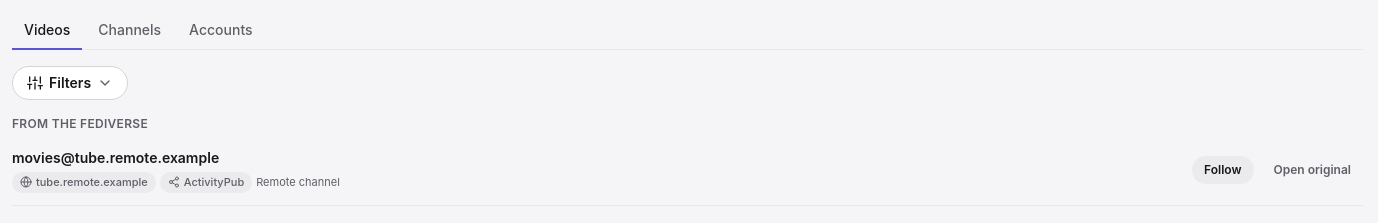
Scenario: SearchResults remote-URI hits (config-parity W13) › renders a resolved remote channel with open-original and a follow affordance when signed in
Expected: the text "movies@tube.remote.example" is shown, [12,149,219,166]
Expected: the text "Remote channel" is shown, [256,174,340,190]
Click the button "Follow".
click(1223, 170)  # box [1192,156,1254,184]
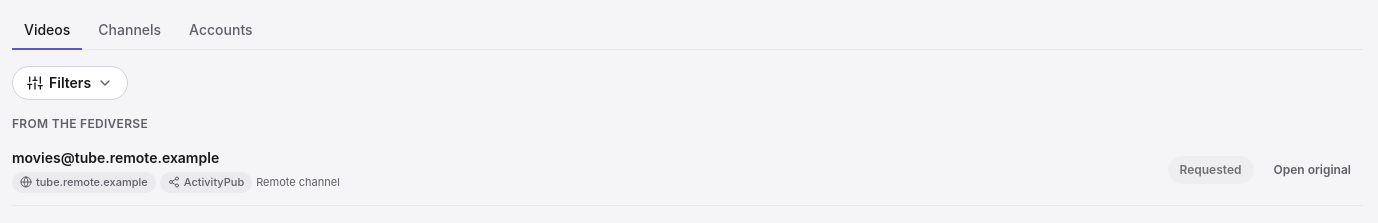
Expected: the button "Requested" is shown, [1168,156,1254,184]
